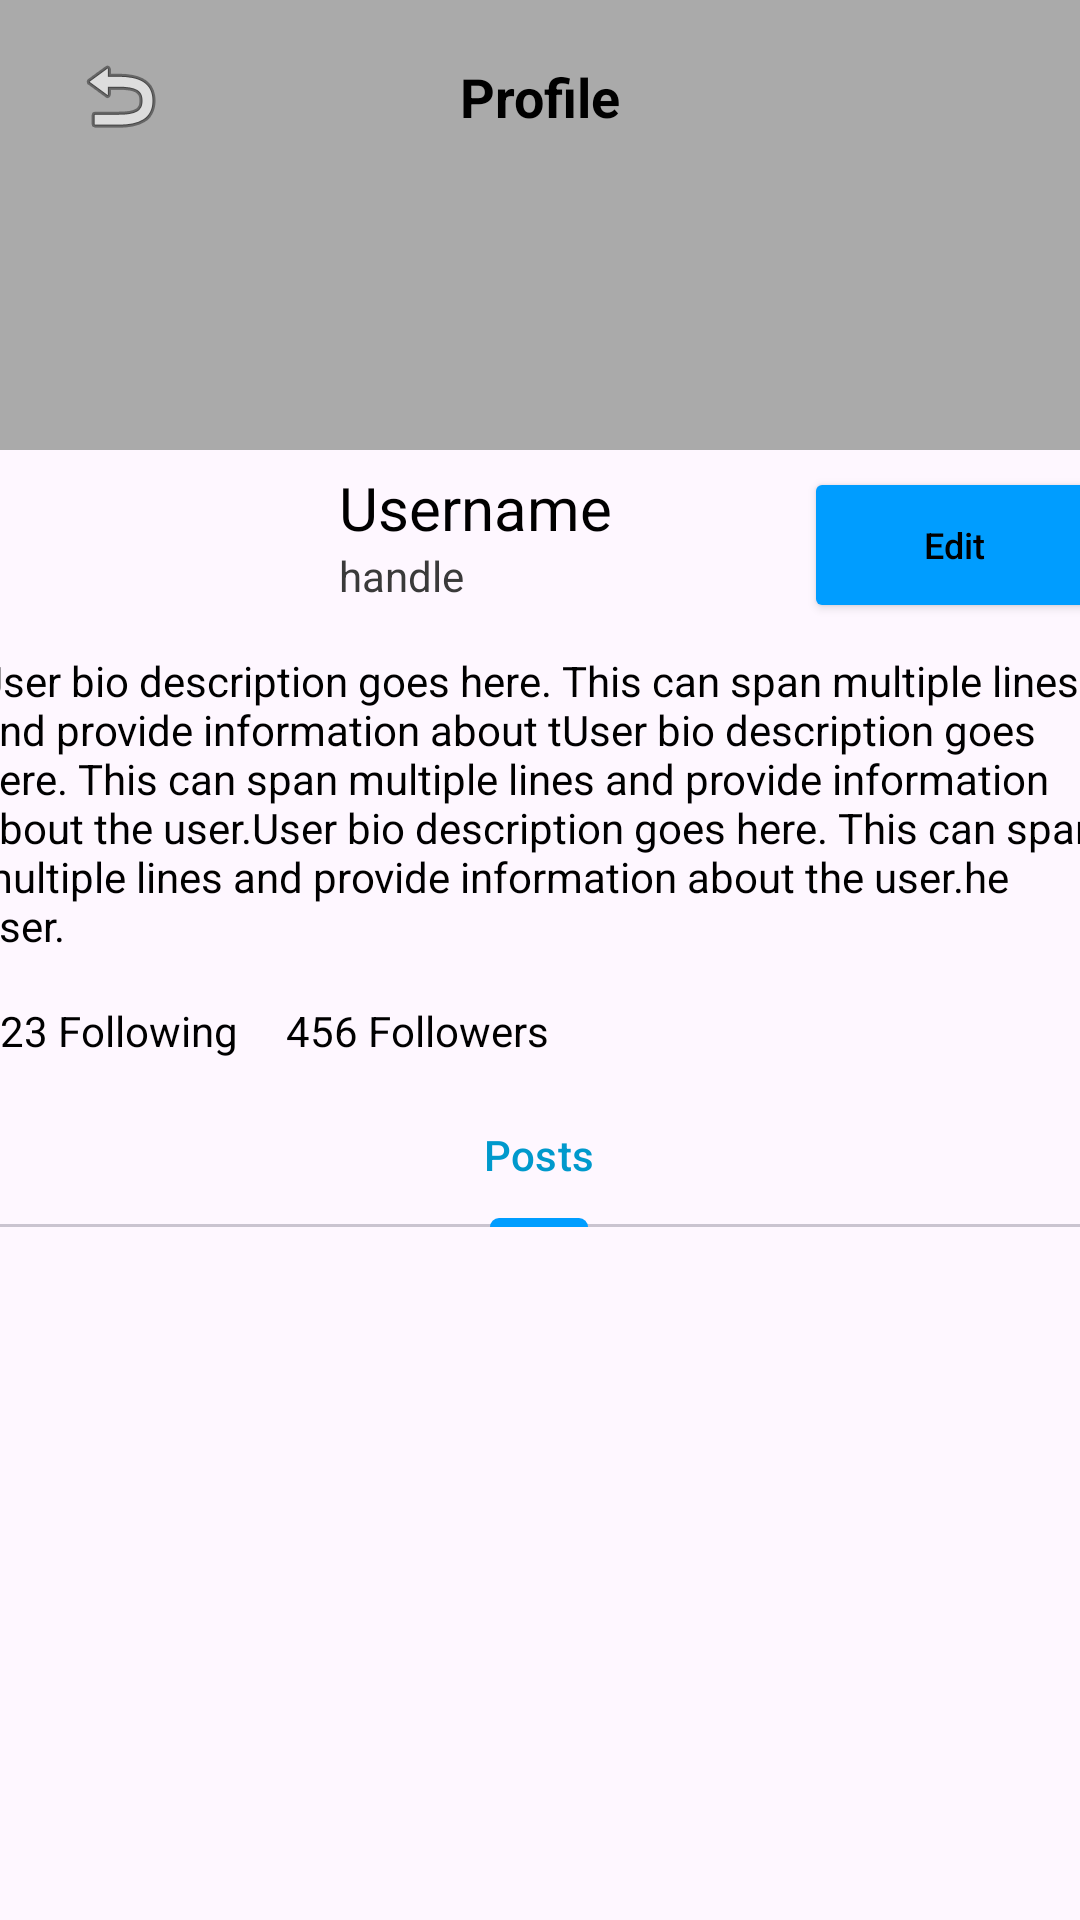

Icon click points for this 1080*1920 phone screenshot, format (x,y):
Back: (121,96)
